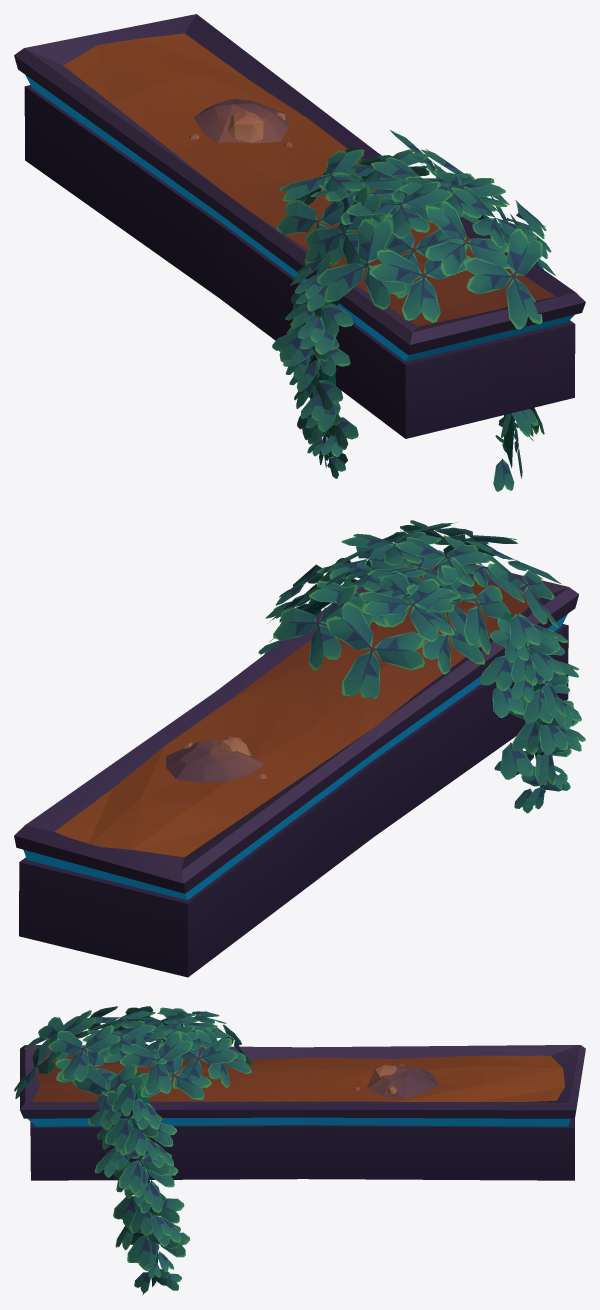
The model's file is Garden_LongPlanter01.fbx.
The picture shows the model from 3 angles, top to bottom: view 1: azimuth 30°, elevation 25°; view 2: azimuth 150°, elevation 25°; view 3: azimuth 270°, elevation 25°; orthographic projection. The views are drawn at different scales.
Parts seen in each view (by area): view 1: Planter.010, BushesandVine; view 2: Planter.010, BushesandVine; view 3: Planter.010, BushesandVine.
Part boxes in pixels (x1,y1,x2,y2): Planter.010: (14,14,585,438); BushesandVine: (272,130,555,491); Planter.010: (14,557,578,977); BushesandVine: (258,520,585,813); Planter.010: (20,1045,585,1180); BushesandVine: (14,1006,257,1295).
Bounding box in the file's own units: 96.61 × 109 × 233.
